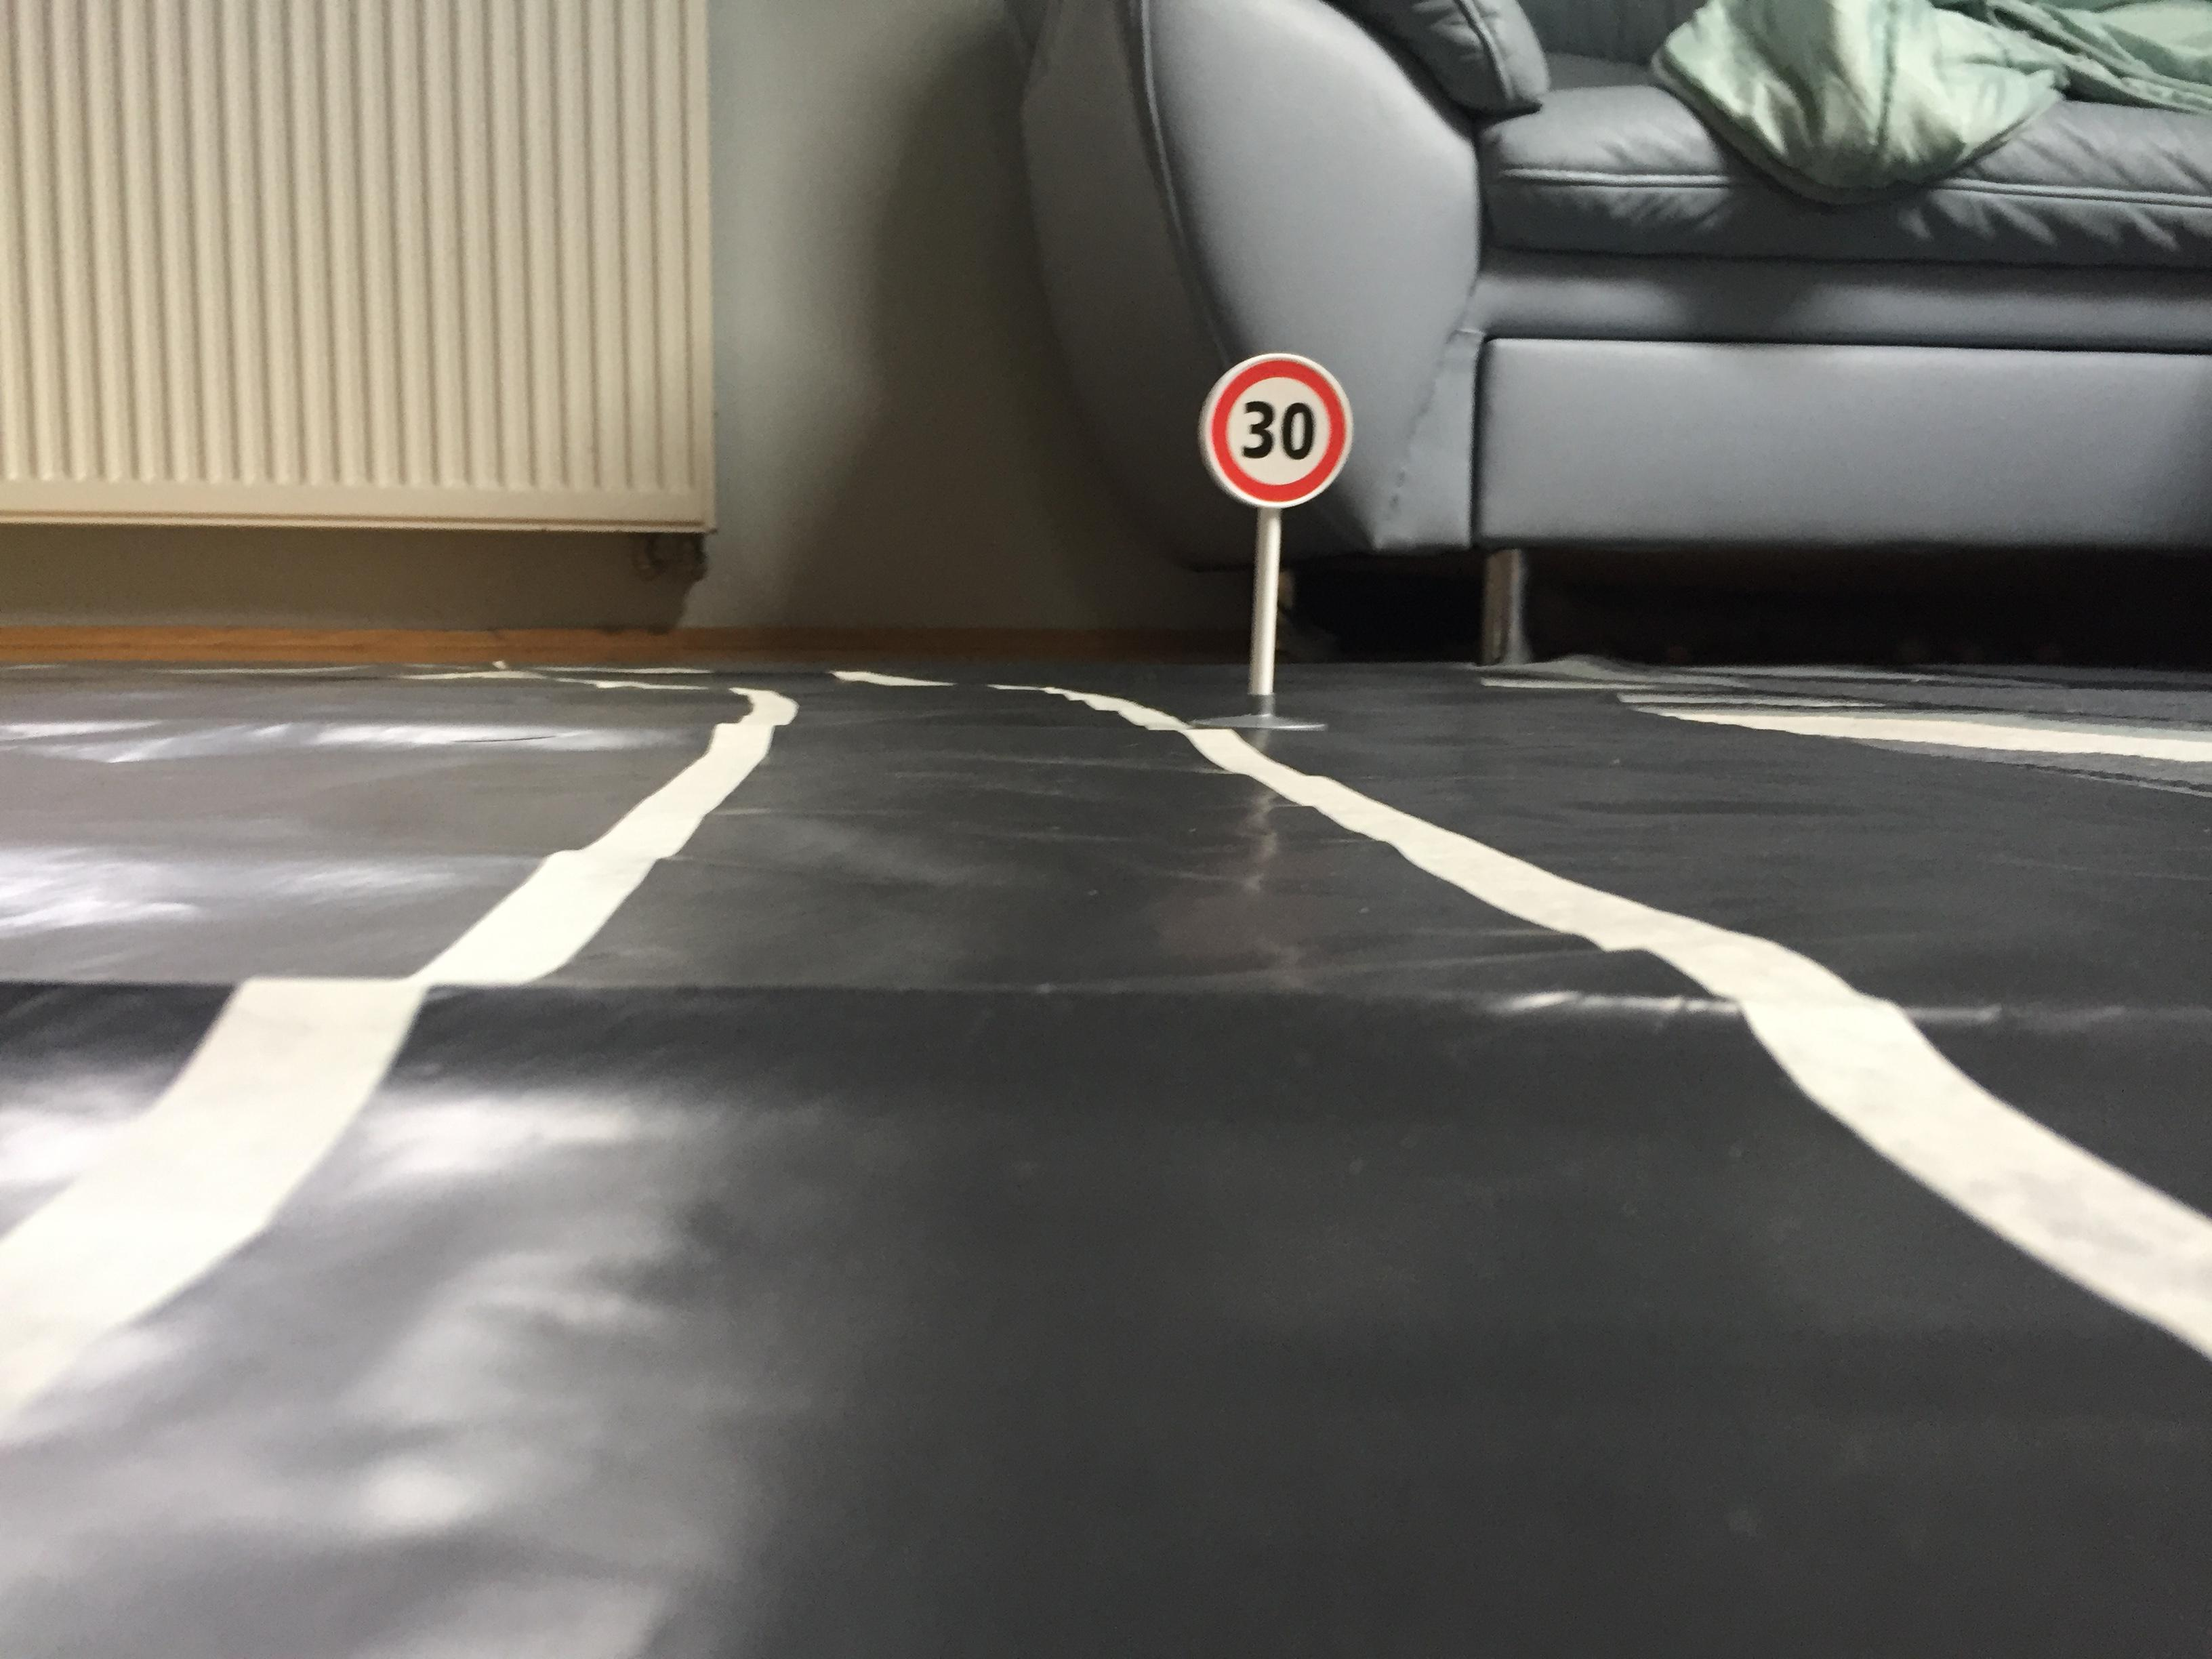speed: (1191, 350, 1360, 516)
